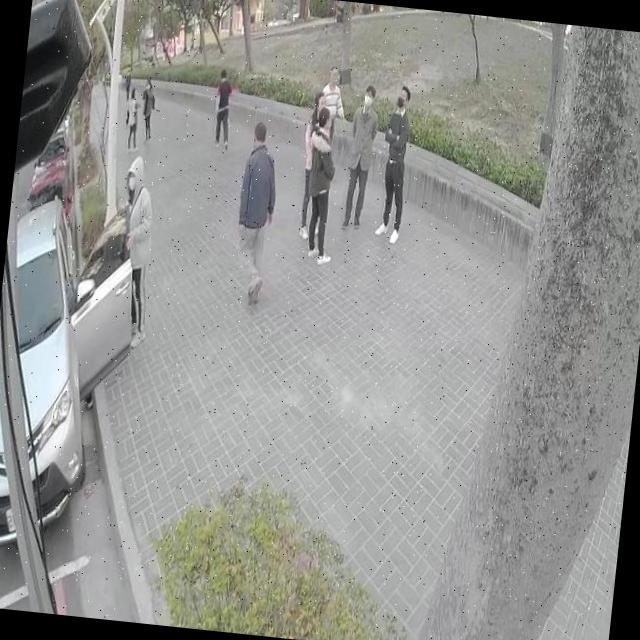person: (227, 117, 285, 306), (109, 153, 162, 344), (304, 109, 346, 260), (376, 83, 414, 244), (342, 82, 382, 226), (294, 90, 326, 236), (207, 60, 238, 156), (313, 58, 352, 132), (123, 92, 141, 150), (140, 82, 156, 141)
